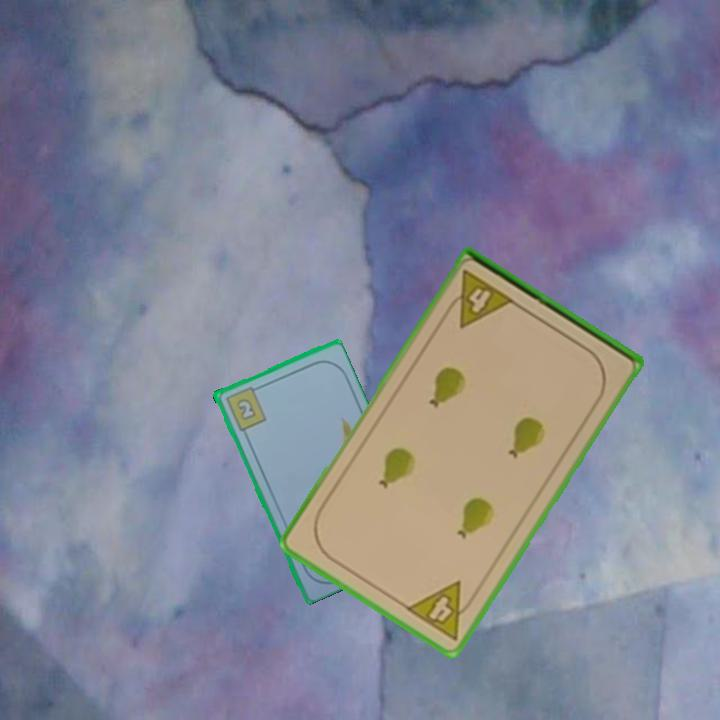2b: (221, 382, 269, 433)
4p: (402, 577, 481, 644), (440, 266, 518, 331)
